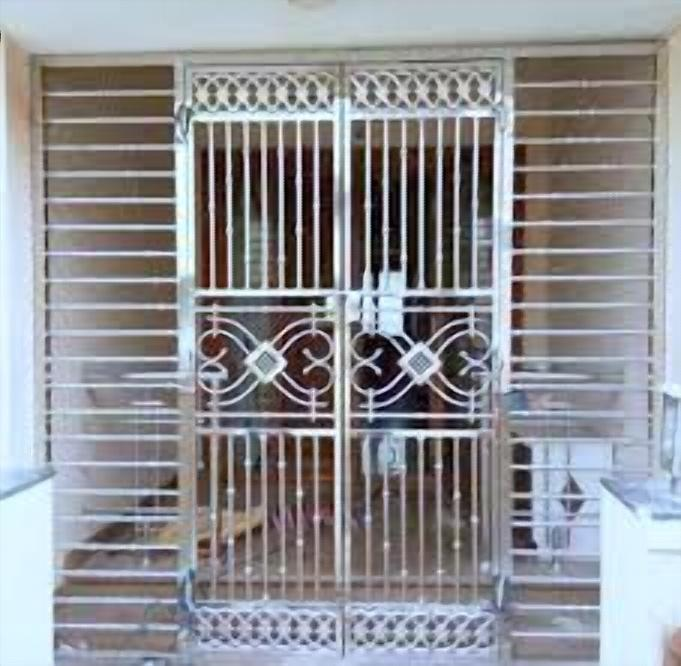Gate: (29, 36, 667, 666)
